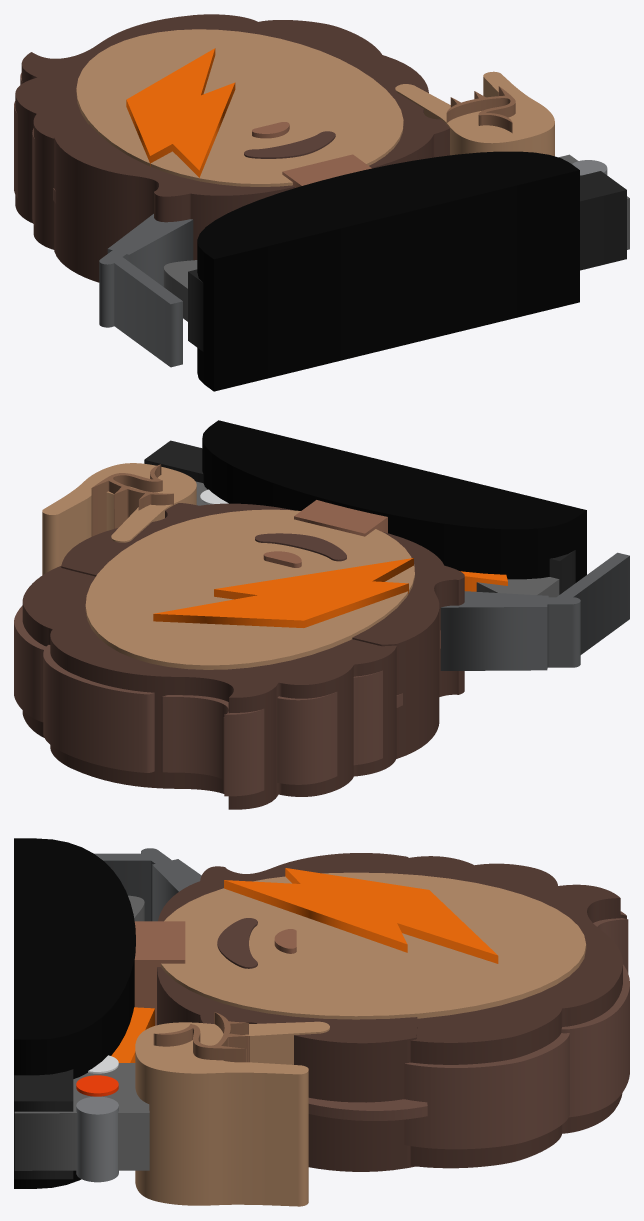
Rendered from emoji_u1f9d1_1f3fd_200d_1f3a4.glb.
The picture shows the model from 3 angles, top to bottom: view 1: azimuth 30°, elevation 25°; view 2: azimuth 150°, elevation 25°; view 3: azimuth 270°, elevation 25°; orthographic projection. The views are drawn at different scales.
Visible parts, largest first — view 1: emoji_u1f9d1_1f3fd_200d_1f3a4; view 2: emoji_u1f9d1_1f3fd_200d_1f3a4; view 3: emoji_u1f9d1_1f3fd_200d_1f3a4.
Part boxes in pixels (bbox=[...]): emoji_u1f9d1_1f3fd_200d_1f3a4: bbox=[14, 14, 629, 391]; emoji_u1f9d1_1f3fd_200d_1f3a4: bbox=[14, 420, 629, 809]; emoji_u1f9d1_1f3fd_200d_1f3a4: bbox=[14, 838, 629, 1206].
Size of the model in its own units: 0.0335 by 0.0092 by 0.033.
